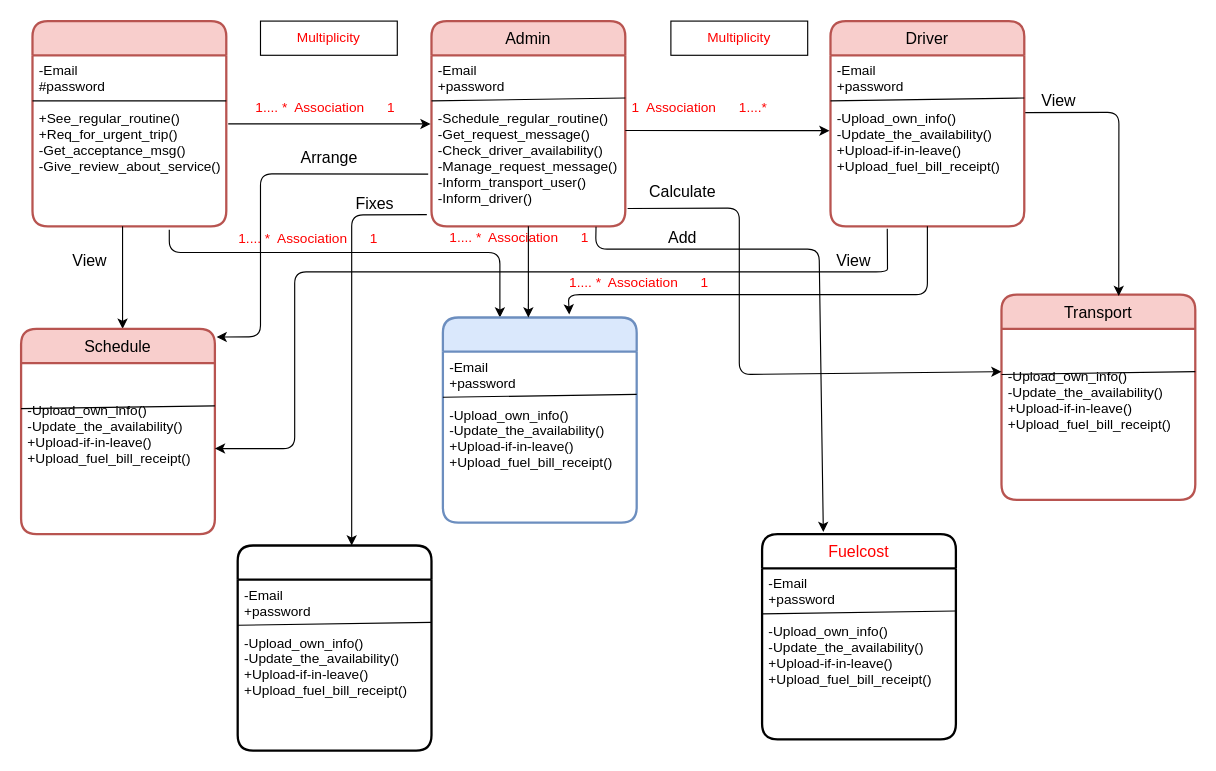
Some shapes in this 1216 by 771 pixel diagram are drawn without their labels. The shapes that lost their labels are listed below. From the top down, each one's box as (x1, y1, x2, y2) in pixels, then its label:
(31, 19, 227, 227): Office Employee
(441, 316, 637, 523): Login
(236, 544, 432, 751): Location
